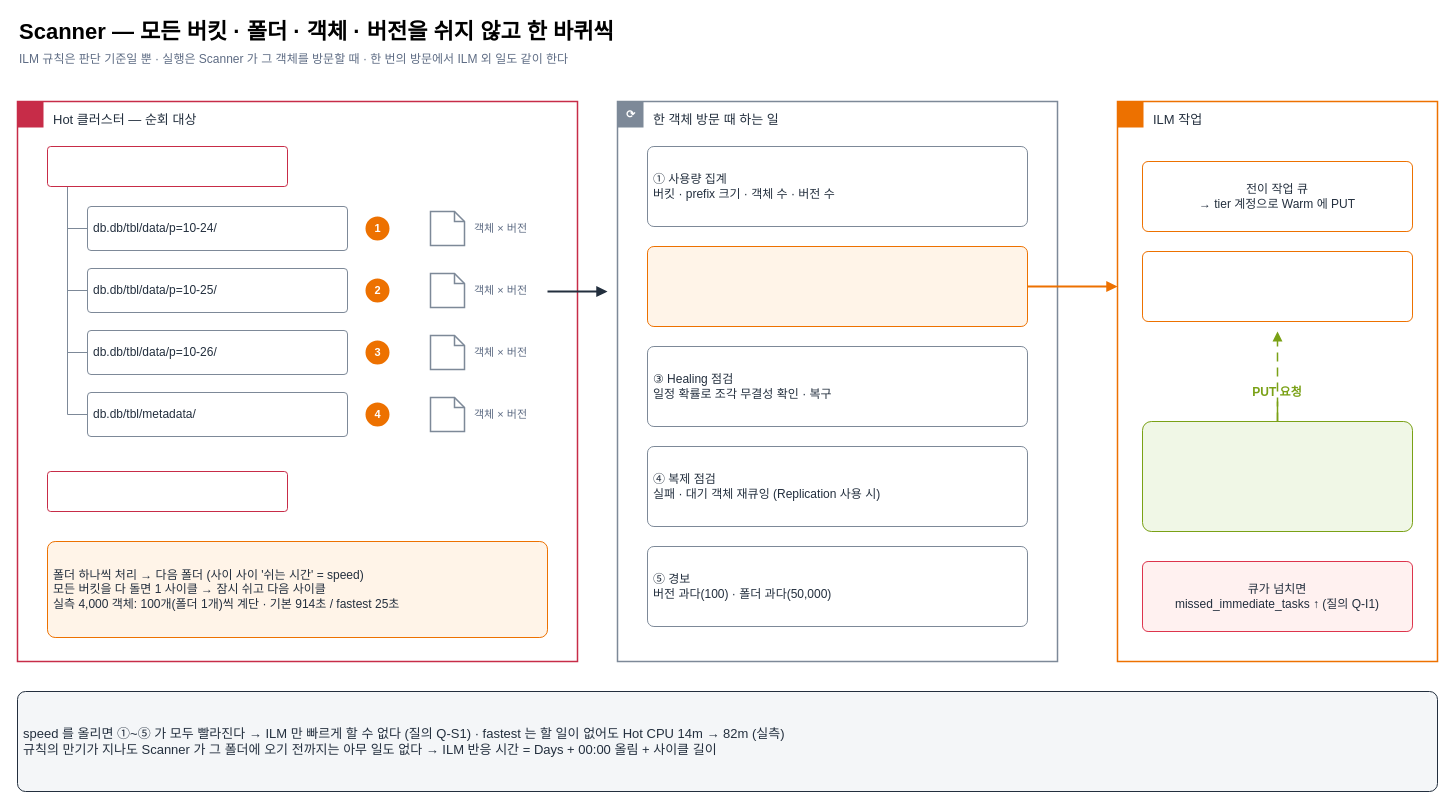
The diagram is 1456 pixels wide and 809 high, and some of its shapes have lost their labels. The centre of each missing label's shape, as x and y in pixels:
"ILM" belongs at (x=1130, y=114).
"PUT 순간 이미 만기? (0d 규칙 · 태그 + 0d · 소급) → Scanner 없이 즉시 큐로" belongs at (x=1277, y=476).
"S3" belongs at (x=30, y=114).
"② ILM 평가 Transition · Expiration · Noncurrent · DM 정리 만기면 작업 큐로" belongs at (x=837, y=286).
"만료 작업 → delete marker / 삭제 · tier journal" belongs at (x=1277, y=286).
"버킷 raw · 기타 …" belongs at (x=167, y=491).
"버킷 warehouse" belongs at (x=167, y=166).
